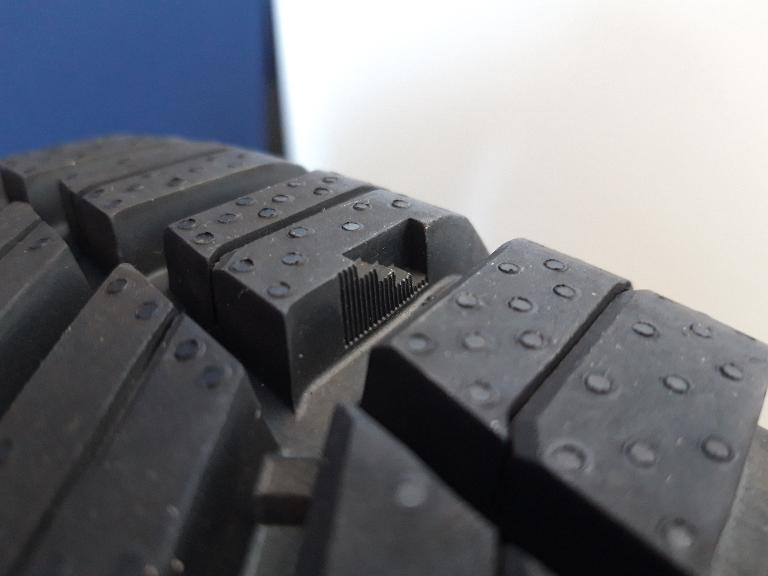temoin:100: (331, 212, 436, 355)
